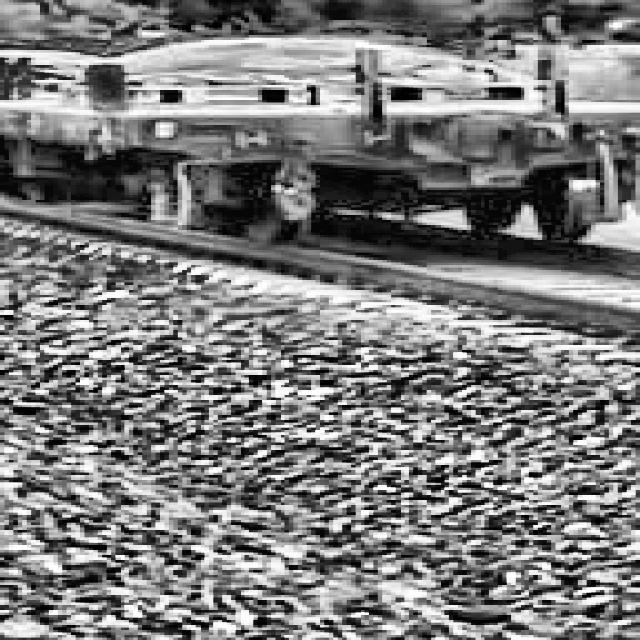Gerbong: (0, 100, 640, 248), (0, 78, 80, 200)
